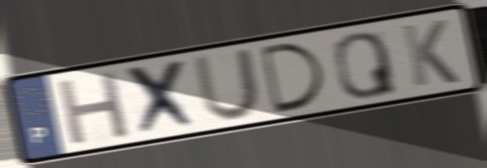D: (256, 39, 330, 116)
H: (54, 68, 133, 149)
K: (398, 17, 462, 90)
Q: (331, 29, 401, 101)
U: (191, 45, 263, 124)
X: (122, 55, 202, 140)
